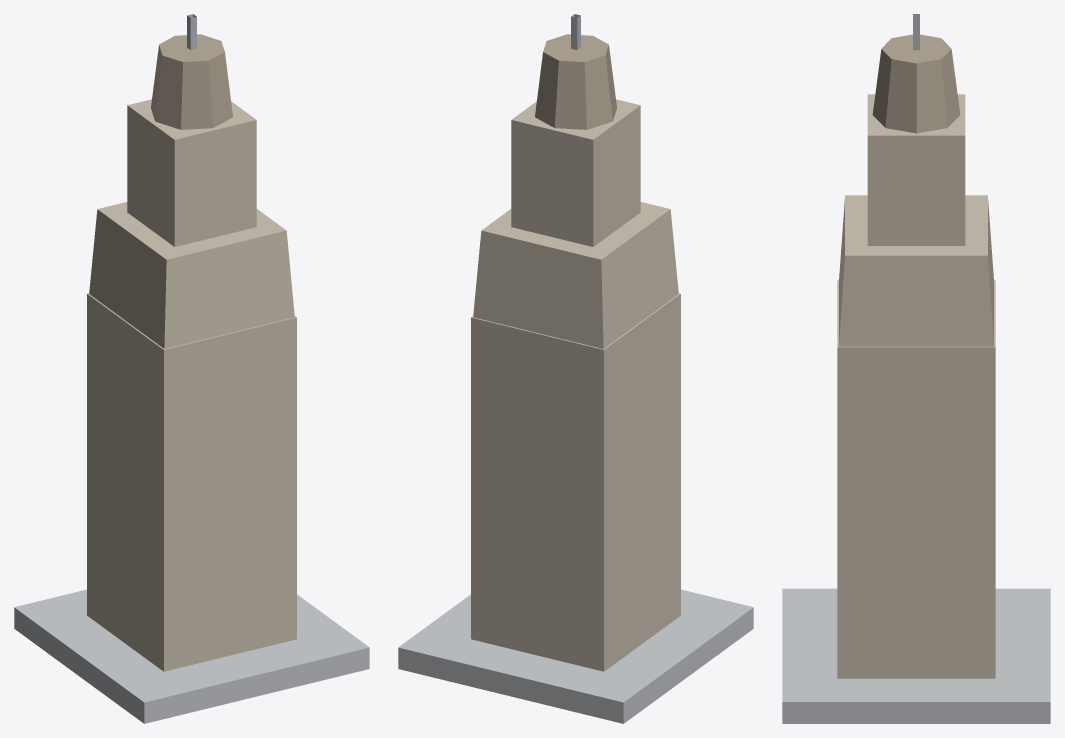
File: torrehercules.glb
3 views of the same model, side by side, from view 1: azimuth 30°, elevation 25°; view 2: azimuth 150°, elevation 25°; view 3: azimuth 270°, elevation 25° (orthographic). The views are drawn at different scales.
Bounding box in the file's own units: 22 × 59 × 22.
